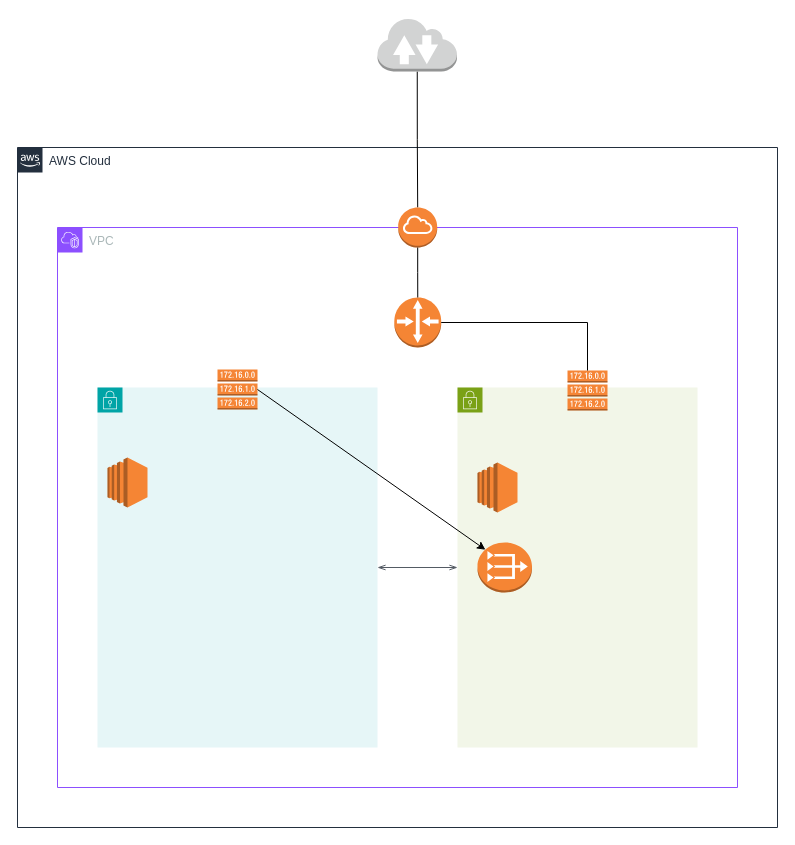
Some shapes in this 795 by 845 pixel diagram are drawn without their labels. Each missing label, with the box of its shape:
Private subnet: (96, 386, 378, 748)
Public subnet: (456, 386, 698, 748)
